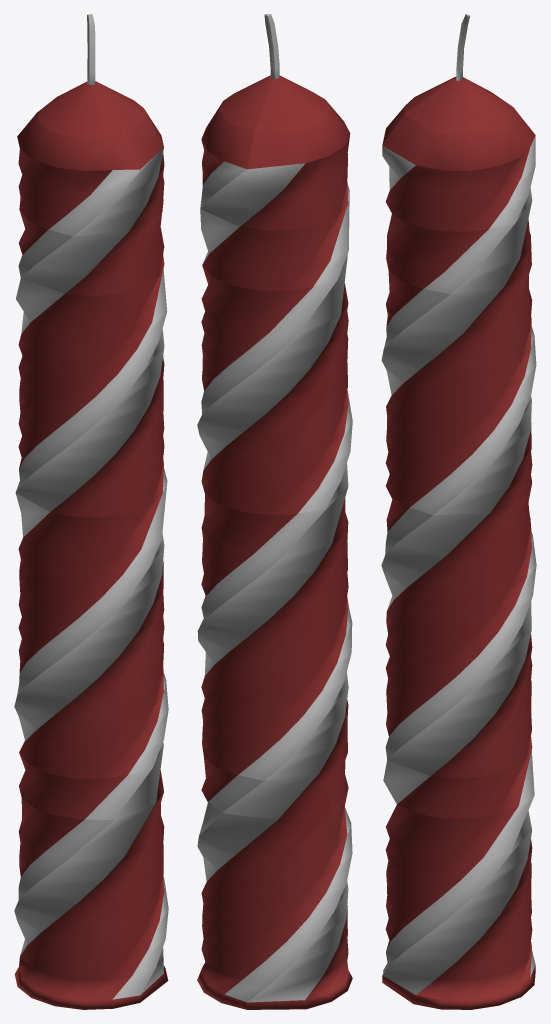
Rendered from candle.obj.
3 renders of one model, left to right at view 1: azimuth 30°, elevation 25°; view 2: azimuth 150°, elevation 25°; view 3: azimuth 270°, elevation 25°, orthographic.
Parts seen in each view (by area): view 1: obj20, obj19; view 2: obj20, obj19; view 3: obj20, obj19.
Part boxes in pixels (box(x1,y1,x2,y2)): obj20: box(14, 81, 168, 1009); obj19: box(14, 14, 168, 999); obj20: box(197, 75, 352, 1009); obj19: box(197, 14, 352, 1002); obj20: box(382, 76, 535, 1009); obj19: box(381, 14, 536, 994).
Size of the model in its own units: 2.72 by 18.66 by 2.72.
Materials: 2 (2 with a texture image).
